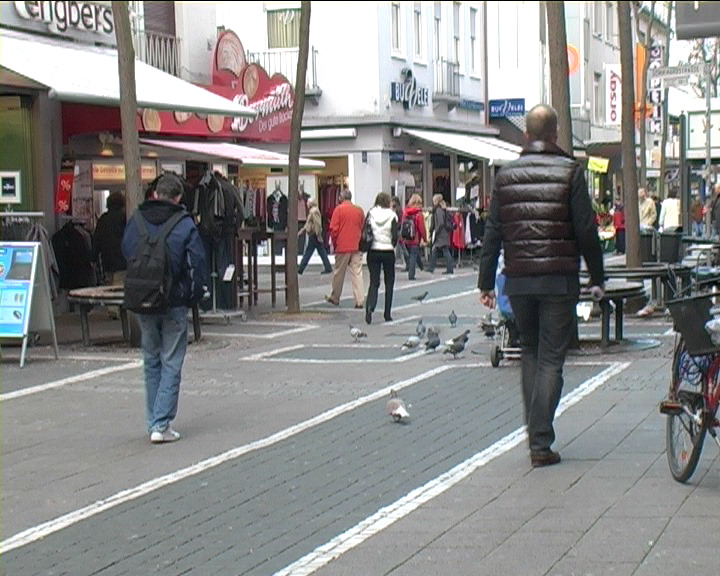undeflect: (132, 171, 200, 228)
